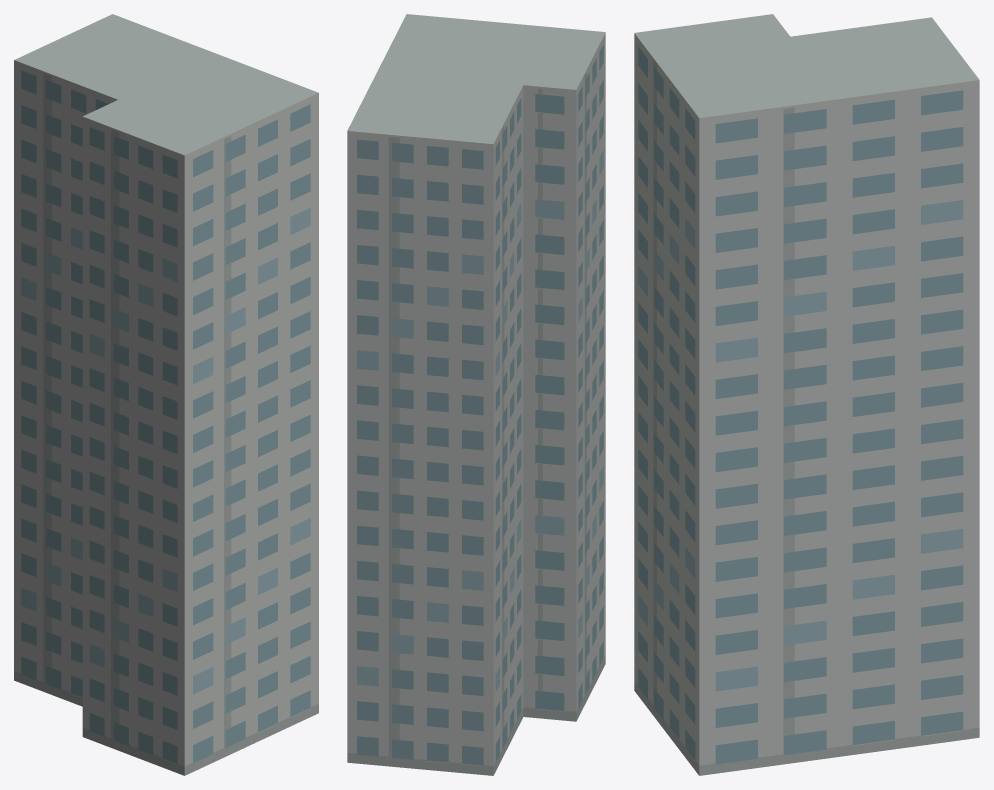
Rendered from residential-d1c5e32e-3bd4-453e-97ae-da985a9140d2.glb.
3 views of the same model, side by side, from view 1: azimuth 30°, elevation 25°; view 2: azimuth 150°, elevation 25°; view 3: azimuth 270°, elevation 25° (orthographic). The views are drawn at different scales.
Parts seen in each view (by area): view 1: residential-d1c5e32e-3bd4-453e-97ae-da985a9140d2.tmp; view 2: residential-d1c5e32e-3bd4-453e-97ae-da985a9140d2.tmp; view 3: residential-d1c5e32e-3bd4-453e-97ae-da985a9140d2.tmp.
Part boxes in pixels (<box>): residential-d1c5e32e-3bd4-453e-97ae-da985a9140d2.tmp: <box>14,14,318,775</box>; residential-d1c5e32e-3bd4-453e-97ae-da985a9140d2.tmp: <box>347,14,605,775</box>; residential-d1c5e32e-3bd4-453e-97ae-da985a9140d2.tmp: <box>634,14,979,775</box>.
Bounding box in the file's own units: 25.16 × 74 × 35.23.
